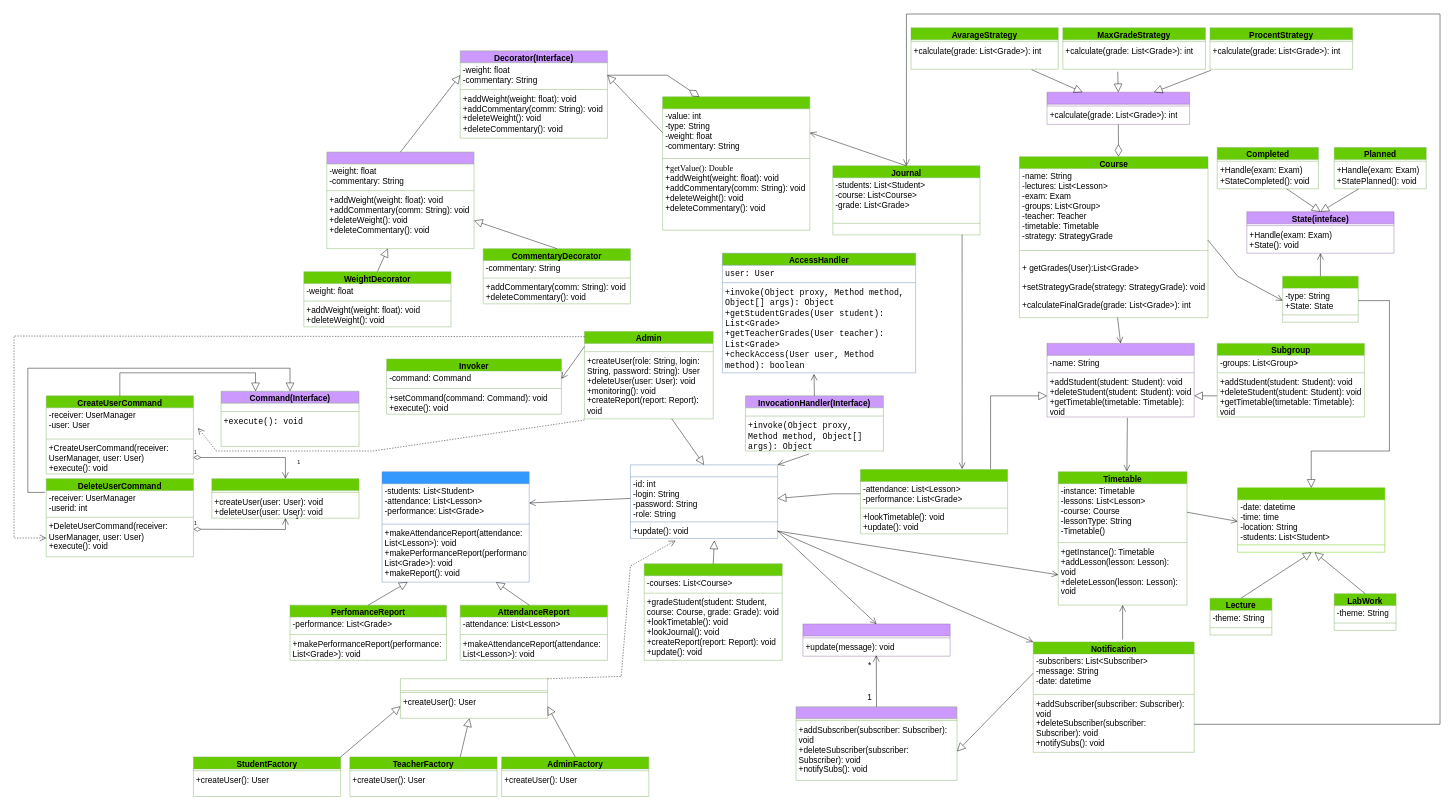
Some shapes in this 1455 by 806 pixel diagram are drawn without their labels. Here are the shapes that lost their labels. From the top down, the box of each, then its label:
(1047, 92, 1190, 124): StrategyGrade(Interface)
(662, 96, 810, 230): Grade
(326, 152, 474, 249): GradeDecorator(Interface)
(1282, 276, 1358, 322): Exam
(1047, 343, 1194, 417): Group(Interface)
(211, 478, 359, 518): UserManager
(630, 464, 778, 538): User (AC)
(860, 469, 1008, 534): Student
(382, 471, 529, 582): Report (AC)
(1237, 487, 1385, 552): Lesson
(644, 563, 782, 660): Teacher
(802, 624, 950, 656): Observer(Interface)
(400, 678, 548, 718): UserFactory (AC)
(796, 706, 957, 780): Notification(Interface)
